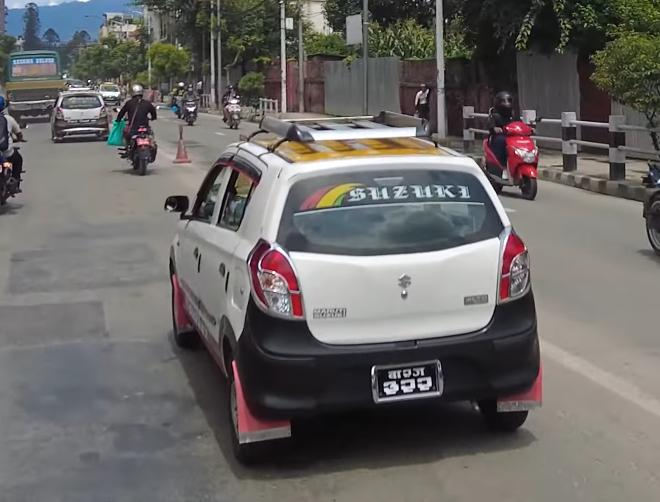bike: (110, 108, 169, 176), (0, 119, 33, 210)
bus: (1, 46, 66, 121)
car: (50, 89, 111, 144)
scooter: (476, 109, 543, 201), (178, 91, 200, 128), (222, 95, 244, 132)
taxi: (157, 105, 551, 461)
